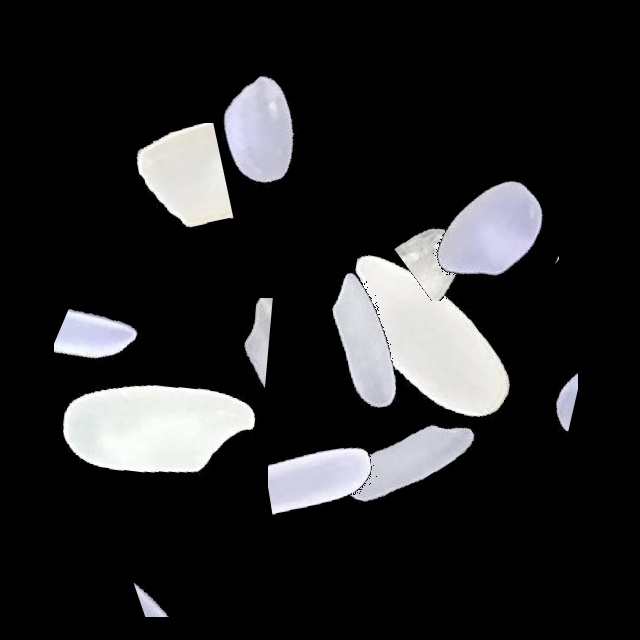Broken: (268, 356, 397, 606), (337, 185, 587, 301), (42, 123, 292, 236), (90, 298, 340, 403), (455, 117, 559, 367), (53, 524, 303, 617), (486, 254, 578, 504), (54, 227, 141, 477), (419, 302, 500, 552)
Full: (304, 211, 554, 461), (34, 305, 284, 555), (138, 5, 388, 255), (239, 214, 489, 464), (282, 336, 532, 586), (364, 106, 614, 356)
